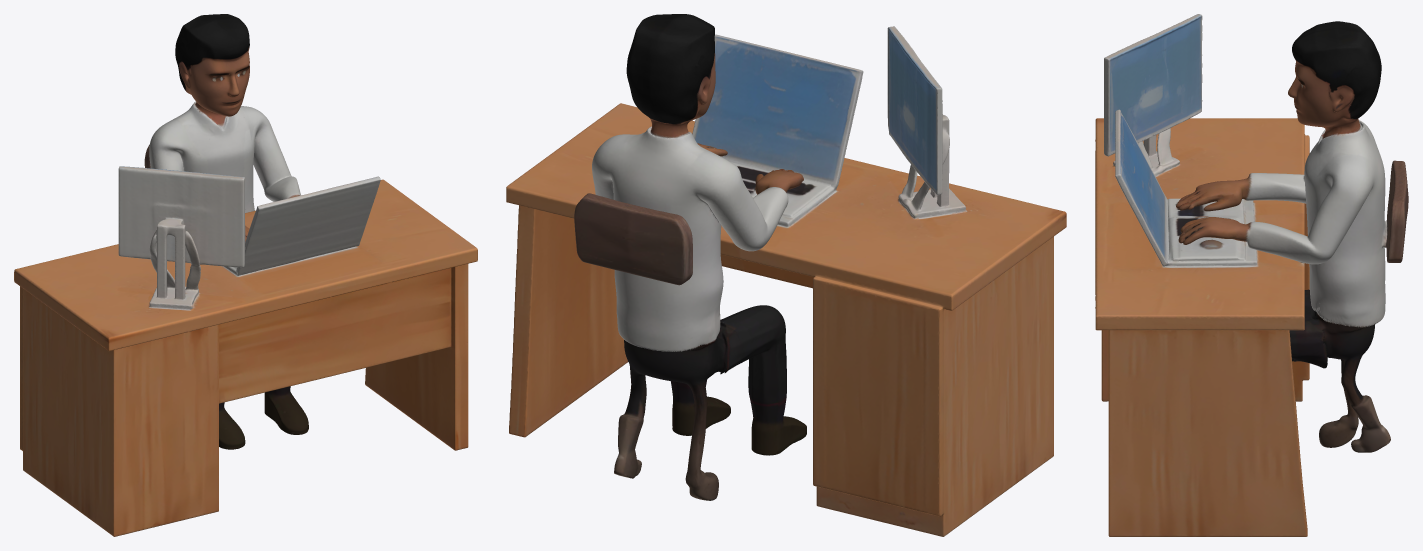
File: steven-empleado.glb
The picture shows the model from 3 angles, left to right: view 1: azimuth 30°, elevation 25°; view 2: azimuth 150°, elevation 25°; view 3: azimuth 270°, elevation 25°; orthographic projection. The views are drawn at different scales.
Visible parts, largest first — view 1: tripo_node_50bc9948-c7ff-4344-b267-d12228643451; view 2: tripo_node_50bc9948-c7ff-4344-b267-d12228643451; view 3: tripo_node_50bc9948-c7ff-4344-b267-d12228643451.
Part boxes in pixels (x1=…): tripo_node_50bc9948-c7ff-4344-b267-d12228643451: x1=14, y1=14, x2=477, y2=536; tripo_node_50bc9948-c7ff-4344-b267-d12228643451: x1=506, y1=14, x2=1066, y2=536; tripo_node_50bc9948-c7ff-4344-b267-d12228643451: x1=1095, y1=14, x2=1408, y2=536.
Bounding box in the file's own units: 0.9889 × 1 × 0.6599.
Materials: 1 (1 with a texture image).
